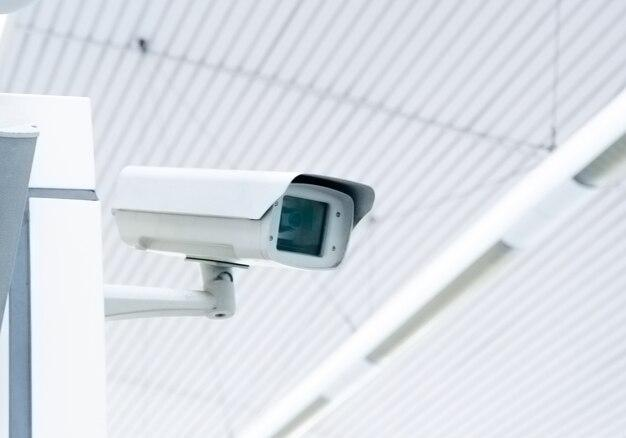camera: (83, 144, 402, 326)
